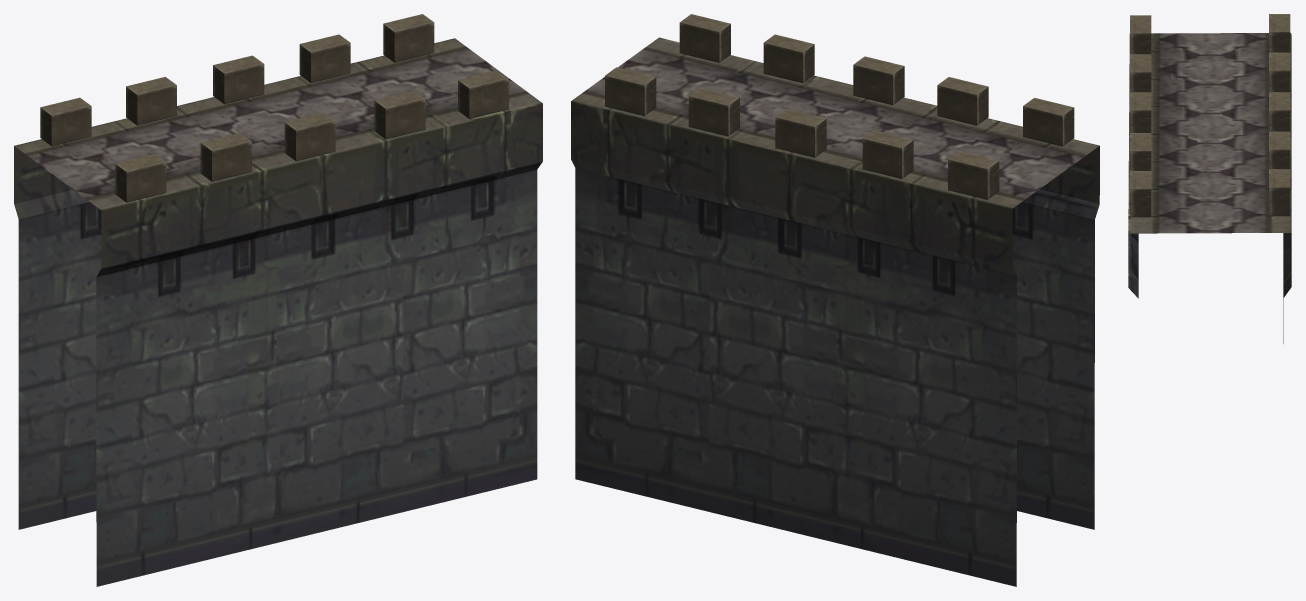
Rendered from Wall_Level03.FBX.
3 renders of one model, left to right at view 1: azimuth 30°, elevation 25°; view 2: azimuth 150°, elevation 25°; view 3: azimuth 270°, elevation 25°, orthographic. The views are drawn at different scales.
Parts seen in each view (by area): view 1: Wall_Level03; view 2: Wall_Level03; view 3: Wall_Level03.
Part boxes in pixels (x1=…): Wall_Level03: x1=14, y1=14, x2=542, y2=586; Wall_Level03: x1=571, y1=14, x2=1099, y2=586; Wall_Level03: x1=1128, y1=14, x2=1291, y2=343.
Bounding box in the file's own units: 250 × 225 × 86.44.
